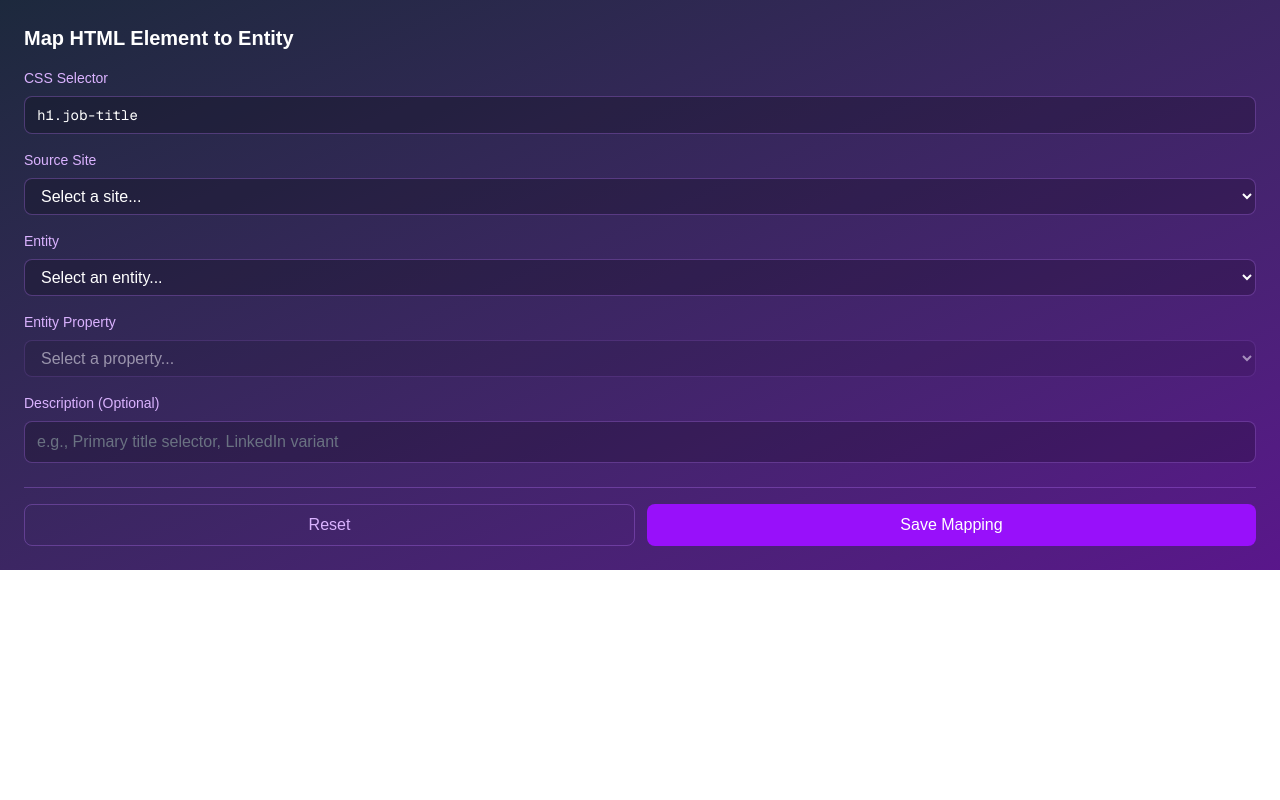
it: ValueMappingForm › form validation › should validate entity selection
Select "indeed.com" in the dropdown labelled "Source Site" at coordinates (640, 196), box 24,178 -> 1256,215
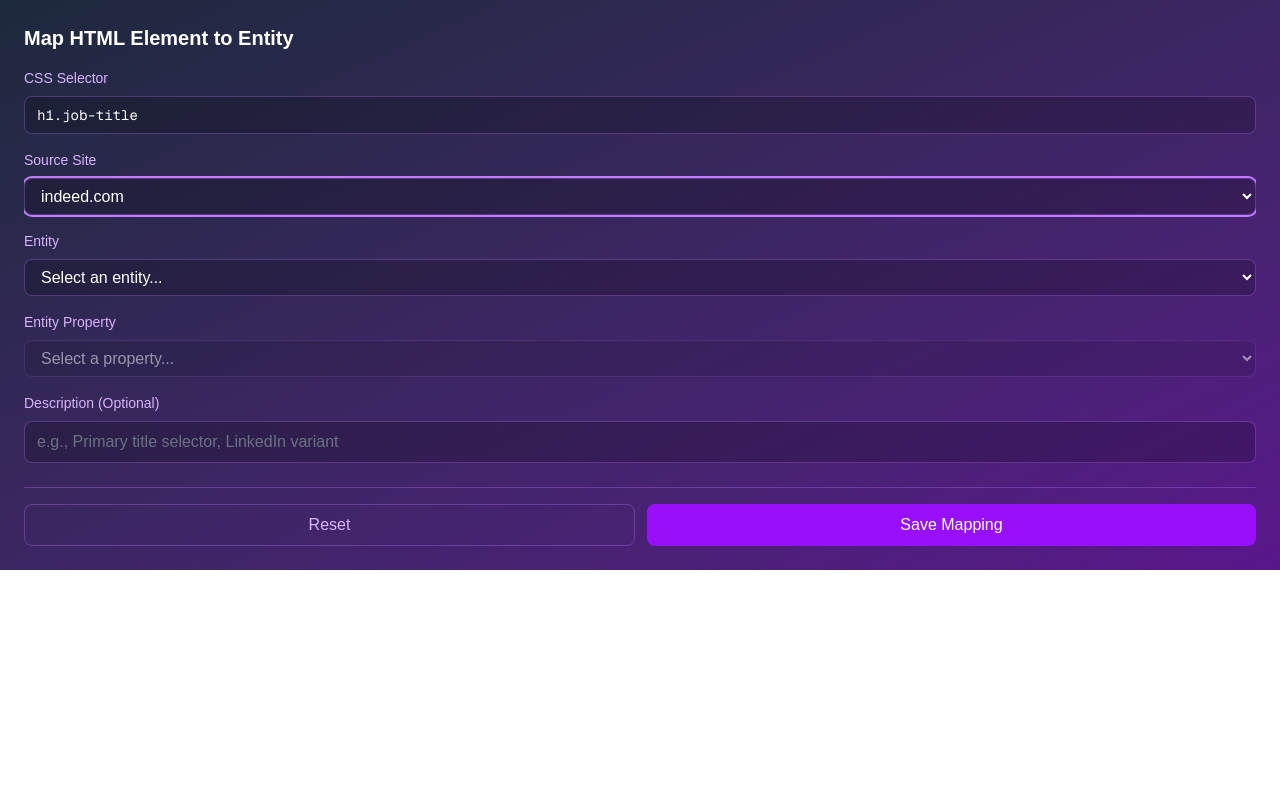
Click the button "Save Mapping" at coordinates (952, 525), box 647,504 -> 1256,546
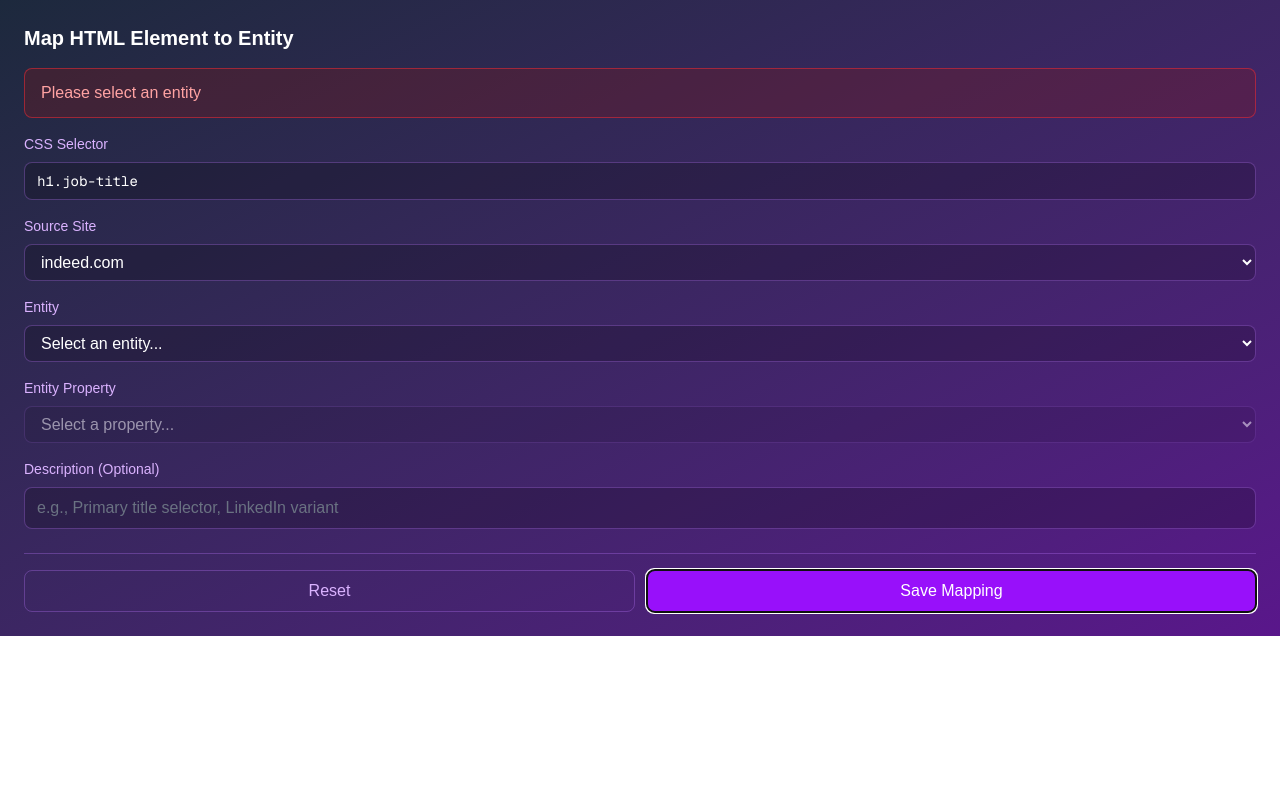
Check: the text "Please select an entity" is shown, box 24,68 -> 1256,118
